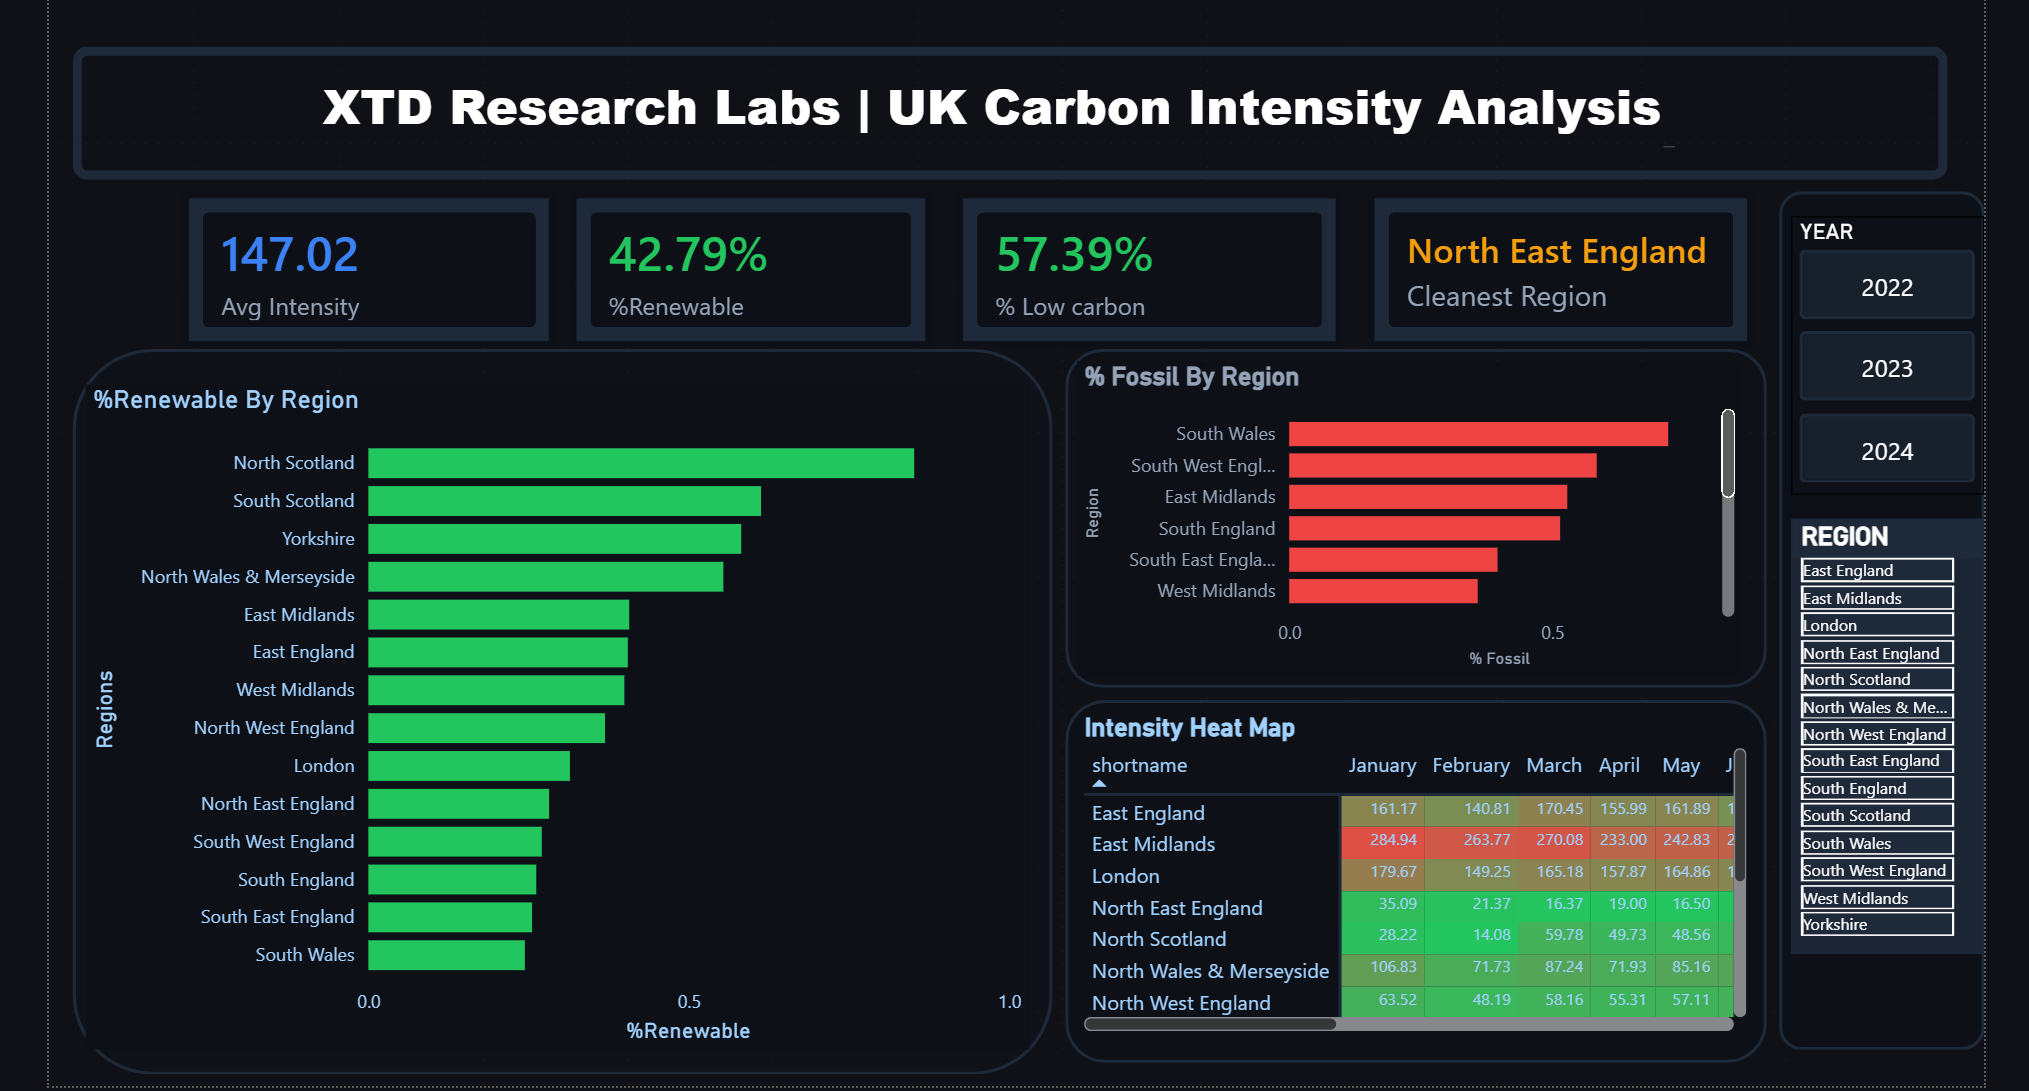

The page's visual inventory and layout, read from the dashboard file:
{"tool":"powerbi","page":{"name":"REGIONAL TRENDS","canvas":[1280,720],"ordinal":1},"visuals":[{"type":"shape","box":[16,32,1240,88],"z":0},{"type":"shape","box":[672,464,464,240],"z":1000},{"type":"shape","box":[16,232,648,480],"z":2000},{"type":"cardVisual","fields":{"Data":["carbon fact_historical_averages.%Renewable"]},"box":[344,128,240,104],"z":3000},{"type":"cardVisual","fields":{"Data":["carbon fact_historical_averages.Avg Intensity"]},"box":[88,128,248,104],"z":4000},{"type":"cardVisual","fields":{"Data":["carbon fact_historical_averages.% Low carbon"]},"box":[600,128,256,104],"z":5000},{"type":"cardVisual","fields":{"Data":["carbon fact_historical_averages.Cleanest Region"]},"box":[872,128,256,104],"z":6000},{"type":"textbox","title":"XTD Research Labs  |  UK Carbon Intensity Analysis","box":[168,48,912,56],"z":7000},{"type":"shape","box":[672,232,464,224],"z":8000},{"type":"clusteredBarChart","title":"% Fossil By Region","fields":{"Category":["carbon dim_region.shortname"],"Y":["carbon fact_historical_averages.% Fossil"]},"box":[680,240,440,208],"z":9000},{"type":"shape","box":[1144,128,136,568],"z":10000},{"type":"listSlicer","title":"REGION","fields":{"Values":["carbon dim_region.shortname"]},"box":[1152,344,128,288],"z":11000},{"type":"advancedSlicerVisual","title":"YEAR","fields":{"Values":["carbon dim_date.year"]},"box":[1152,144,128,184],"z":12000},{"type":"clusteredBarChart","title":"%Renewable By Region","fields":{"Category":["carbon dim_region.shortname"],"Y":["carbon fact_historical_averages.%Renewable"]},"box":[24,256,624,440],"z":13000},{"type":"pivotTable","title":"Intensity Heat Map","fields":{"Rows":["carbon dim_region.shortname"],"Columns":["carbon dim_date.month_name"],"Values":["carbon fact_historical_averages.Avg Intensity"]},"box":[680,472,448,216],"z":14000}]}

Visuals, with their boxes on the page's 1280x720 design canvas (x1, y1, x2, y2). These are canvas units, not pixel positions in the 2029x1091 screenshot, which may show the page scaled, cropped or inside an application window:
shape: Rect(16, 32, 1256, 120)
shape: Rect(672, 464, 1136, 704)
shape: Rect(16, 232, 664, 712)
cardVisual - carbon fact_historical_averages.%Renewable: Rect(344, 128, 584, 232)
cardVisual - carbon fact_historical_averages.Avg Intensity: Rect(88, 128, 336, 232)
cardVisual - carbon fact_historical_averages.% Low carbon: Rect(600, 128, 856, 232)
cardVisual - carbon fact_historical_averages.Cleanest Region: Rect(872, 128, 1128, 232)
"XTD Research Labs  |  UK Carbon Intensity Analysis" textbox: Rect(168, 48, 1080, 104)
shape: Rect(672, 232, 1136, 456)
"% Fossil By Region" clusteredBarChart: Rect(680, 240, 1120, 448)
shape: Rect(1144, 128, 1280, 696)
"REGION" listSlicer: Rect(1152, 344, 1280, 632)
"YEAR" advancedSlicerVisual: Rect(1152, 144, 1280, 328)
"%Renewable By Region" clusteredBarChart: Rect(24, 256, 648, 696)
"Intensity Heat Map" pivotTable: Rect(680, 472, 1128, 688)
